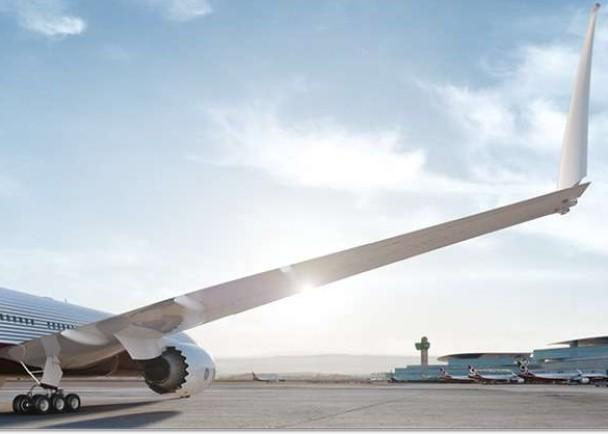airplane: (1, 1, 608, 413)
